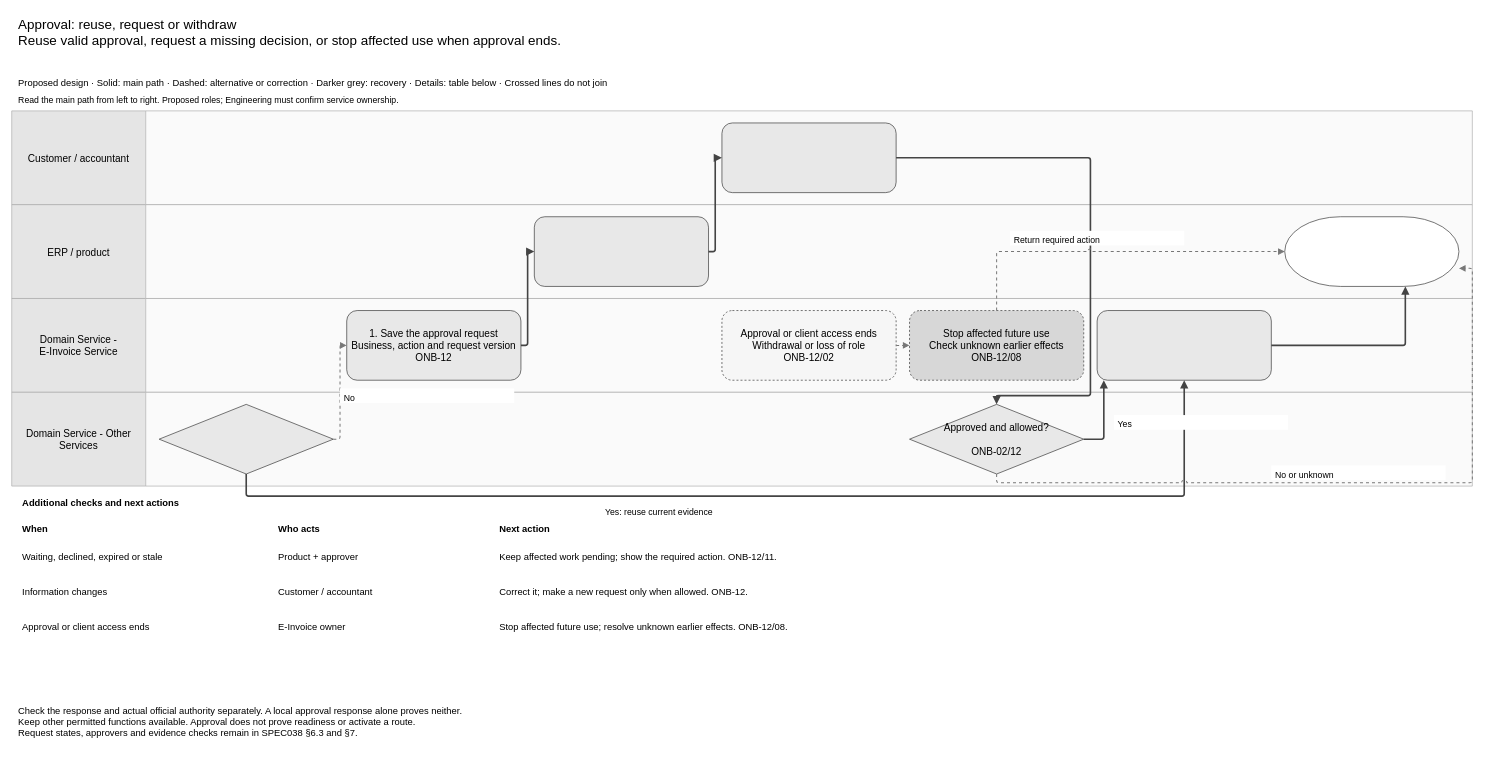
The diagram is 1490 pixels wide and 776 high, and some of its shapes have lost their labels. Here are the shapes that lost their labels. From the top down, the centre of each, then its label:
[808,157]: 3. Approve or decline Respond to the current request ONB-12
[621,251]: 2. Show the requested decision Ask an eligible approver ONB-12/11
[1371,251]: 5. Show result and next action Approval alone is not readiness ONB-11
[1183,345]: 4. Resume the affected check Recheck permission and access ONB-12
[245,439]: Approval valid? ONB-02/12
